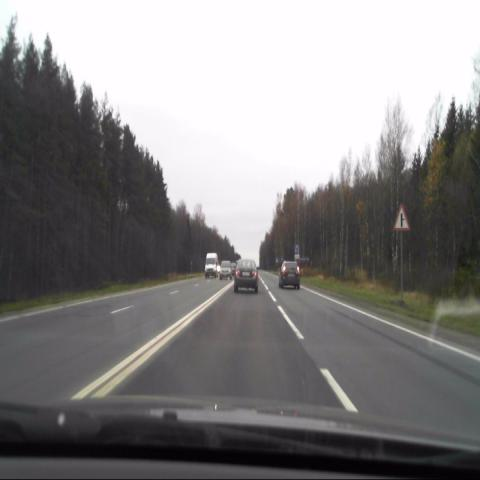2_3_2: (393, 205, 410, 232)
